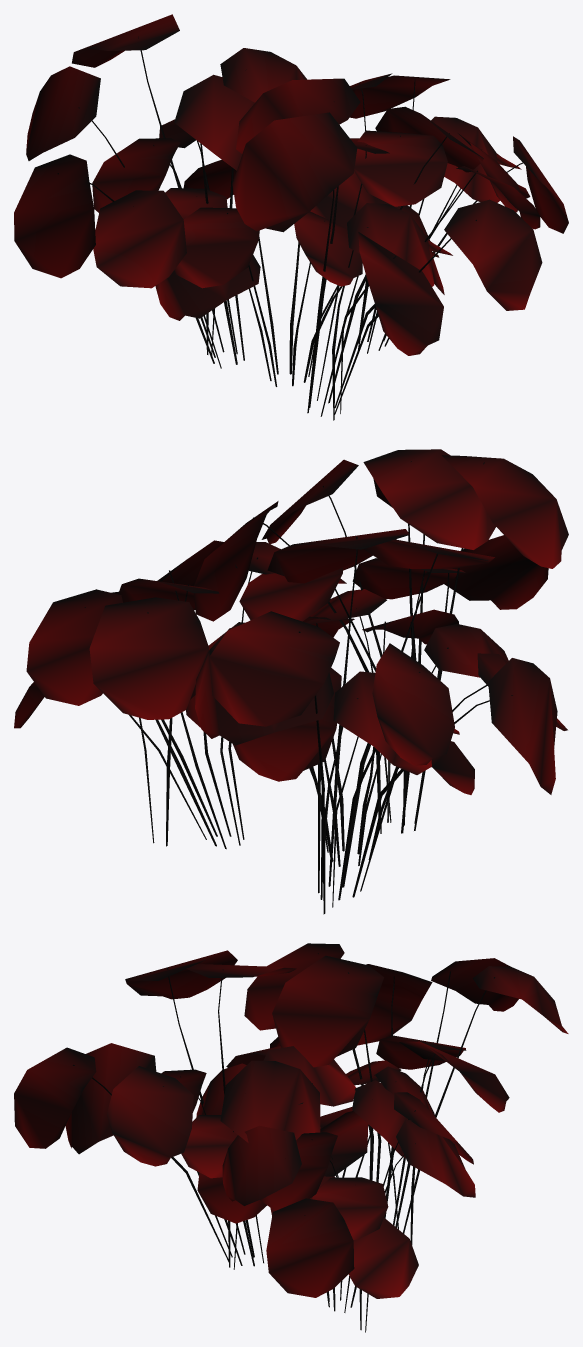
Rendered from Bush02B.fbx.
3 views of the same model, one above another, from view 1: azimuth 30°, elevation 25°; view 2: azimuth 150°, elevation 25°; view 3: azimuth 270°, elevation 25° (orthographic). The views are drawn at different scales.
Visible parts, largest first — view 1: Bush02B; view 2: Bush02B; view 3: Bush02B.
Part boxes in pixels (box(x1,y1,x2,y2)): Bush02B: box(14, 14, 568, 420); Bush02B: box(14, 449, 568, 914); Bush02B: box(14, 943, 568, 1332).
Size of the model in its own units: 2.84 by 1.83 by 3.06.
